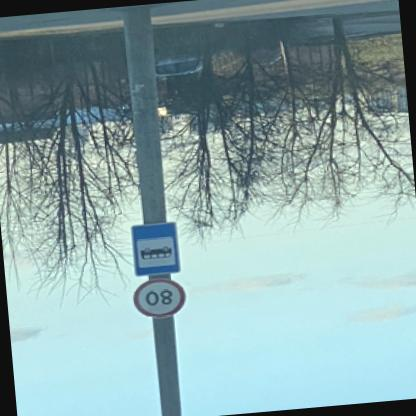speedlimit: (134, 278, 188, 322)
